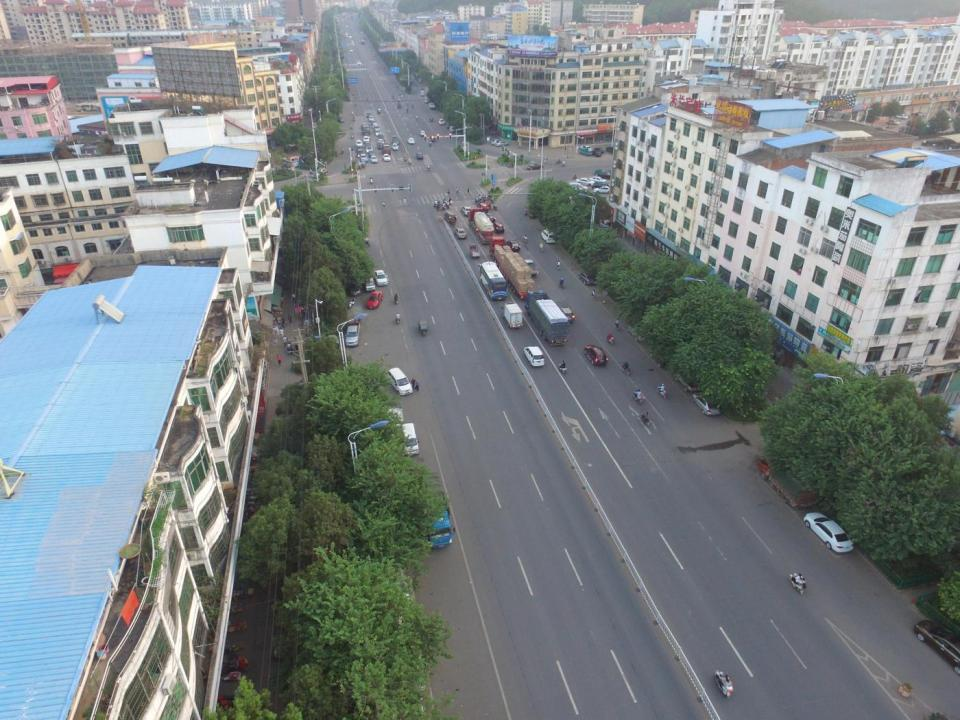bus: (478, 260, 508, 300), (75, 102, 88, 111), (84, 102, 95, 111), (92, 103, 103, 112)
car: (914, 620, 960, 676), (803, 512, 854, 554), (690, 390, 720, 416), (648, 344, 677, 368), (626, 321, 655, 343), (584, 344, 608, 366), (523, 345, 545, 367), (365, 290, 383, 309), (556, 306, 575, 323), (577, 271, 598, 285), (599, 216, 617, 232), (348, 274, 361, 296), (564, 185, 588, 196), (374, 270, 389, 286), (363, 274, 376, 292), (566, 182, 588, 192), (506, 239, 522, 252), (587, 175, 608, 184), (592, 185, 612, 194), (575, 177, 595, 186), (597, 170, 615, 180), (591, 182, 612, 190), (605, 145, 621, 155), (444, 211, 457, 223), (453, 228, 467, 239), (491, 222, 505, 233), (526, 162, 544, 170), (483, 212, 496, 223), (476, 202, 489, 213), (460, 206, 473, 216), (576, 144, 592, 152), (894, 112, 910, 120), (909, 111, 925, 119), (494, 140, 509, 148), (490, 138, 504, 146), (884, 119, 900, 126), (359, 153, 369, 164), (589, 150, 602, 158), (592, 147, 605, 154), (391, 135, 400, 145), (378, 139, 386, 150), (382, 153, 391, 162), (355, 145, 364, 154), (378, 132, 386, 142), (370, 155, 378, 164), (391, 142, 400, 150), (374, 128, 382, 137), (406, 137, 416, 144), (355, 139, 363, 147), (362, 135, 370, 143), (363, 132, 371, 140), (365, 145, 374, 152), (364, 141, 373, 148), (416, 152, 423, 160), (368, 150, 376, 157), (336, 116, 344, 123), (419, 130, 426, 137), (368, 115, 374, 122), (366, 111, 372, 118)
truck: (413, 471, 455, 550), (758, 454, 818, 509), (488, 236, 536, 299), (524, 290, 570, 346), (468, 207, 495, 245), (673, 370, 705, 391), (501, 302, 523, 328), (344, 321, 360, 347), (523, 258, 539, 276), (380, 143, 391, 156), (578, 147, 593, 156), (360, 122, 371, 134), (372, 124, 380, 132)
van: (387, 367, 413, 396), (400, 422, 420, 457), (540, 228, 557, 244), (448, 126, 456, 132)
